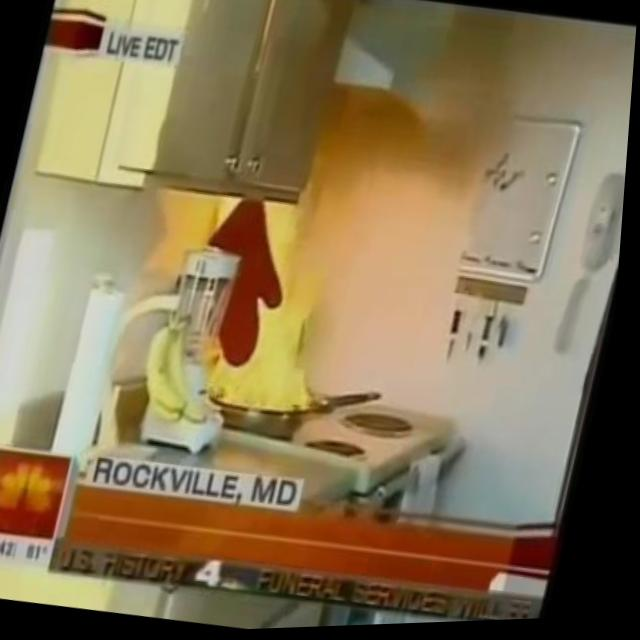fire: (215, 200, 360, 428)
